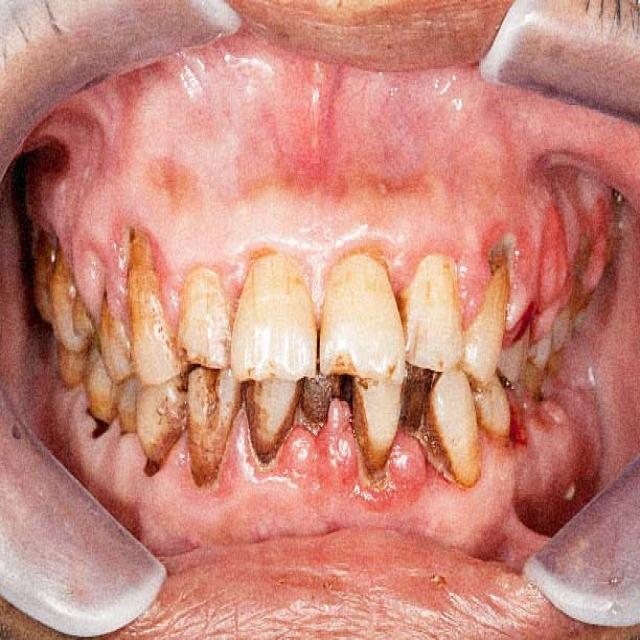caries: (207, 367, 234, 422)
